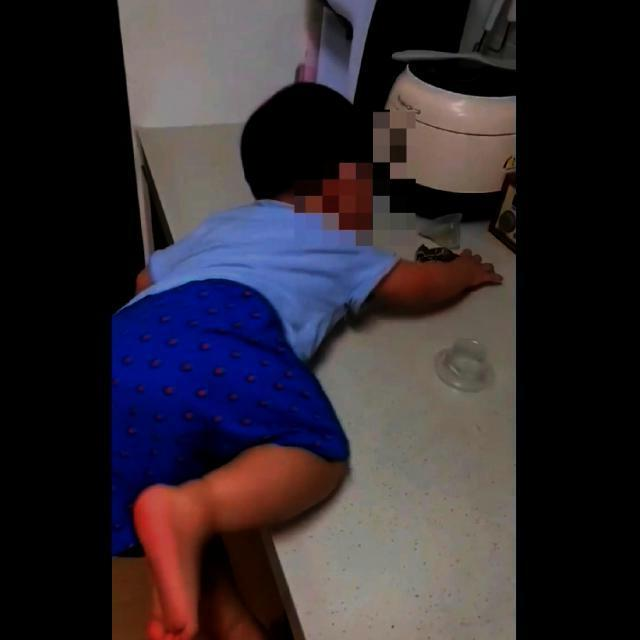child: (113, 89, 498, 640)
